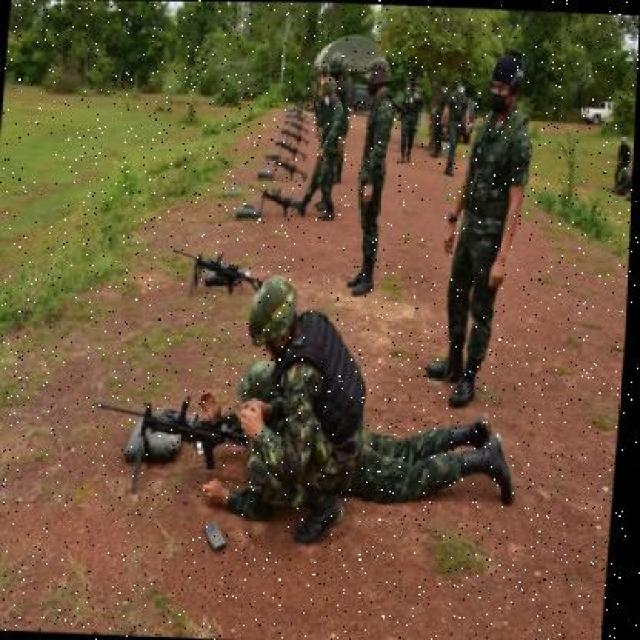MIL_Pax: (219, 268, 366, 558), (185, 400, 530, 518), (454, 72, 534, 394), (342, 55, 398, 307), (302, 86, 347, 214), (298, 45, 357, 100), (440, 73, 466, 178), (610, 142, 636, 235), (399, 81, 421, 164)
